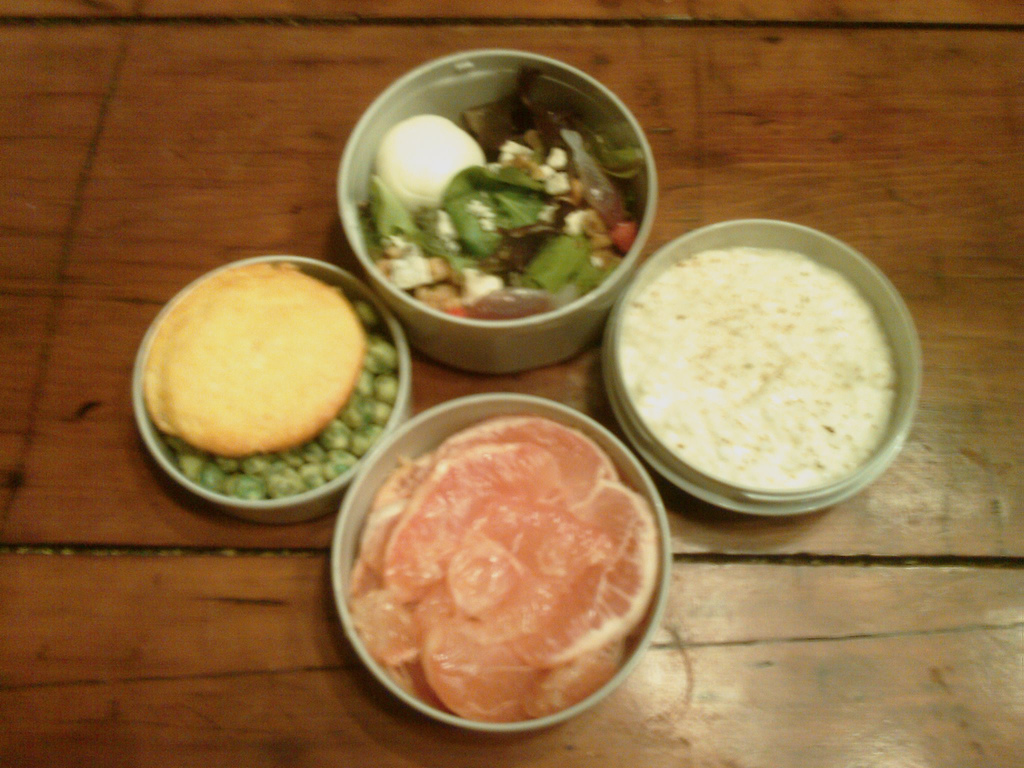plain rice: (627, 238, 875, 466)
